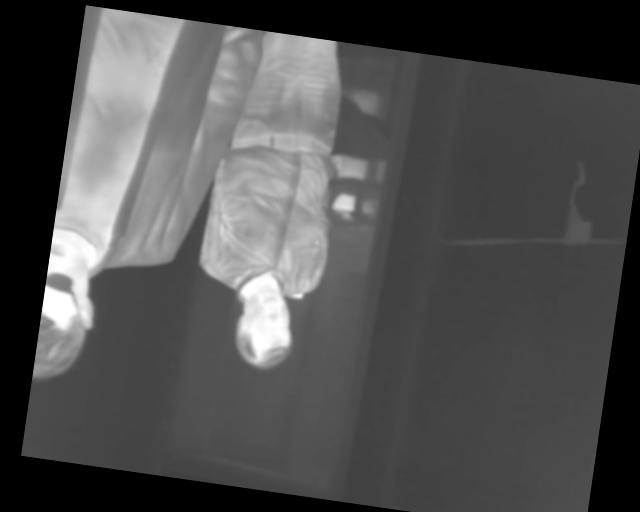face: (229, 281, 299, 374)
